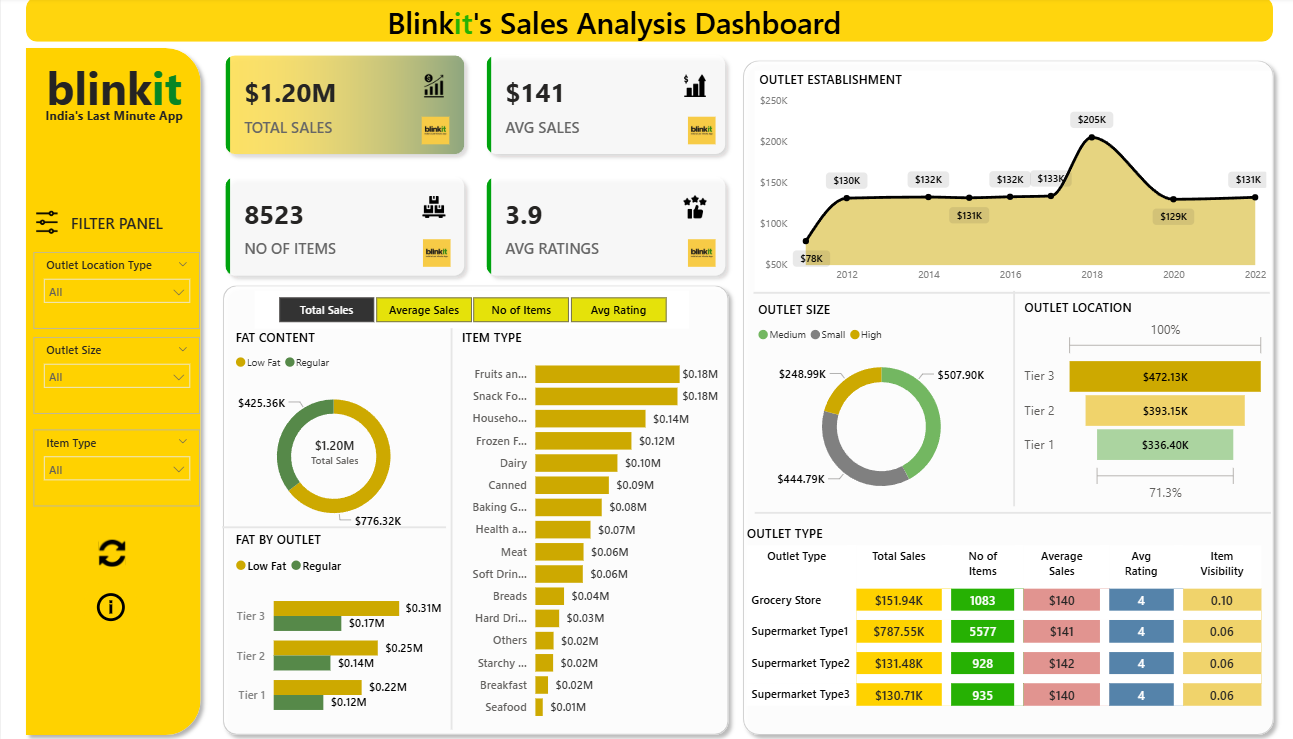

Layout of this report page (visuals, bound fields, positions):
{"tool":"powerbi","page":{"name":"Page 1","canvas":[1400,800],"ordinal":0},"visuals":[{"type":"shape","box":[18,45,205.6,754.9],"z":0},{"type":"textbox","box":[31.5,112.6,178.6,28.5],"z":1000},{"type":"textbox","box":[27,58.5,189.1,82.5],"z":2000},{"type":"cardVisual","fields":{"Data":["BlinkIT Grocery Data.Total Sales","BlinkIT Grocery Data.Average Sales","BlinkIT Grocery Data.No of Items","BlinkIT Grocery Data.Avg Rating"]},"box":[223.6,45,570.3,270.2],"z":3000},{"type":"shape","box":[229.6,300.2,559.8,499.8],"z":4000},{"type":"donutChart","title":"FAT CONTENT","fields":{"Y":["BlinkIT Grocery Data.Total Sales"],"Category":["BlinkIT Grocery Data.Item Fat Content"]},"box":[246.1,355.7,220.6,229.6],"z":5000},{"type":"slicer","fields":{"Values":["metrics.metrics"]},"box":[271.7,315.2,465.3,40.5],"z":6000},{"type":"cardVisual","fields":{"Data":["BlinkIT Grocery Data.Total Sales"]},"box":[298.7,447.3,118.6,79.5],"z":7000},{"type":"clusteredBarChart","title":"FAT BY OUTLET","fields":{"Y":["BlinkIT Grocery Data.Total Sales"],"Category":["BlinkIT Grocery Data.Outlet Location Type"],"Series":["BlinkIT Grocery Data.Item Fat Content"]},"box":[246.1,571.8,231.1,216.1],"z":8000},{"type":"shape","box":[237.1,565.8,240.1,6],"z":9000},{"type":"shape","box":[477.3,355.7,12,430.7],"z":10000},{"type":"barChart","title":"ITEM TYPE","fields":{"Y":["BlinkIT Grocery Data.Total Sales"],"Category":["BlinkIT Grocery Data.Item Type"]},"box":[489.3,355.7,285.2,430.7],"z":11000},{"type":"shape","box":[786.5,58.5,586.8,741.4],"z":12000},{"type":"lineChart","title":"OUTLET ESTABLISHMENT","fields":{"Y":["BlinkIT Grocery Data.Total Sales"],"Category":["BlinkIT Grocery Data.Outlet Establishment Year"]},"box":[809,79.5,553.8,235.6],"z":13000},{"type":"shape","box":[807.5,315.2,553.8,4.5],"z":14000},{"type":"donutChart","title":"OUTLET SIZE","fields":{"Y":["BlinkIT Grocery Data.Total Sales"],"Category":["BlinkIT Grocery Data.Outlet Size"]},"box":[807.5,325.7,274.7,225.1],"z":15000},{"type":"shape","box":[1080.6,315.2,12,231.1],"z":16000},{"type":"funnel","title":"OUTLET LOCATION","fields":{"Y":["Sum(BlinkIT Grocery Data.Sales)"],"Category":["BlinkIT Grocery Data.Outlet Location Type"]},"box":[1092.6,322.7,268.7,223.6],"z":17000},{"type":"shape","box":[809,550.8,553.8,4.5],"z":18000},{"type":"pivotTable","title":"OUTLET TYPE","fields":{"Rows":["BlinkIT Grocery Data.Outlet Type"],"Values":["BlinkIT Grocery Data.Total Sales","BlinkIT Grocery Data.No of Items","BlinkIT Grocery Data.Average Sales","BlinkIT Grocery Data.Avg Rating","Avg(BlinkIT Grocery Data.Item Visibility)"]},"box":[795.5,565.8,565.8,205.6],"z":19000},{"type":"slicer","fields":{"Values":["BlinkIT Grocery Data.Outlet Location Type"]},"box":[34.5,273.2,178.6,82.5],"z":20000},{"type":"slicer","fields":{"Values":["BlinkIT Grocery Data.Outlet Size"]},"box":[34.5,364.7,178.6,82.5],"z":21000},{"type":"slicer","fields":{"Values":["BlinkIT Grocery Data.Item Type"]},"box":[34.5,463.8,178.6,82.5],"z":22000},{"type":"textbox","box":[45,226.6,157.6,34.5],"z":23000},{"type":"image","box":[27,222.1,45,40.5],"z":24000},{"type":"image","box":[442.8,121.6,46.5,39],"z":25000},{"type":"image","box":[444.3,253.6,46.5,39],"z":26000},{"type":"image","box":[727.9,253.6,46.5,39],"z":27000},{"type":"image","box":[727.9,121.6,46.5,39],"z":28000},{"type":"actionButton","box":[33,571.8,171.1,48],"z":29000},{"type":"actionButton","box":[90.1,628.9,55.5,51],"z":30000},{"type":"shape","box":[27,0,1337.3,48],"z":31000},{"type":"textbox","box":[261.2,0,792.5,58.5],"z":32000}]}

Visuals, with their boxes in screenshot pixels (x1, y1, x2, y2), scaled from the page's 1400x800 canvas onto the 1293x739 screenshot:
shape: (x1=17, y1=42, x2=207, y2=738)
textbox: (x1=29, y1=104, x2=194, y2=130)
textbox: (x1=25, y1=54, x2=200, y2=130)
cardVisual - BlinkIT Grocery Data.Total Sales x BlinkIT Grocery Data.Average Sales: (x1=207, y1=42, x2=733, y2=291)
shape: (x1=212, y1=277, x2=729, y2=738)
"FAT CONTENT" donutChart: (x1=227, y1=329, x2=431, y2=541)
slicer - metrics.metrics: (x1=251, y1=291, x2=681, y2=329)
cardVisual - BlinkIT Grocery Data.Total Sales: (x1=276, y1=413, x2=385, y2=487)
"FAT BY OUTLET" clusteredBarChart: (x1=227, y1=528, x2=441, y2=728)
shape: (x1=219, y1=523, x2=441, y2=528)
shape: (x1=441, y1=329, x2=452, y2=726)
"ITEM TYPE" barChart: (x1=452, y1=329, x2=715, y2=726)
shape: (x1=726, y1=54, x2=1268, y2=738)
"OUTLET ESTABLISHMENT" lineChart: (x1=747, y1=73, x2=1259, y2=291)
shape: (x1=746, y1=291, x2=1257, y2=295)
"OUTLET SIZE" donutChart: (x1=746, y1=301, x2=999, y2=509)
shape: (x1=998, y1=291, x2=1009, y2=505)
"OUTLET LOCATION" funnel: (x1=1009, y1=298, x2=1257, y2=505)
shape: (x1=747, y1=509, x2=1259, y2=513)
"OUTLET TYPE" pivotTable: (x1=735, y1=523, x2=1257, y2=713)
slicer - BlinkIT Grocery Data.Outlet Location Type: (x1=32, y1=252, x2=197, y2=329)
slicer - BlinkIT Grocery Data.Outlet Size: (x1=32, y1=337, x2=197, y2=413)
slicer - BlinkIT Grocery Data.Item Type: (x1=32, y1=428, x2=197, y2=505)
textbox: (x1=42, y1=209, x2=187, y2=241)
image: (x1=25, y1=205, x2=66, y2=243)
image: (x1=409, y1=112, x2=452, y2=148)
image: (x1=410, y1=234, x2=453, y2=270)
image: (x1=672, y1=234, x2=715, y2=270)
image: (x1=672, y1=112, x2=715, y2=148)
actionButton: (x1=30, y1=528, x2=189, y2=573)
actionButton: (x1=83, y1=581, x2=134, y2=628)
shape: (x1=25, y1=0, x2=1260, y2=44)
textbox: (x1=241, y1=0, x2=973, y2=54)
